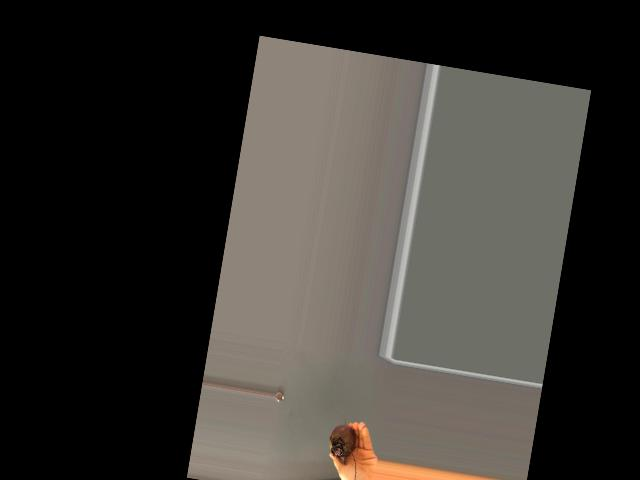beet: (321, 414, 365, 480)
